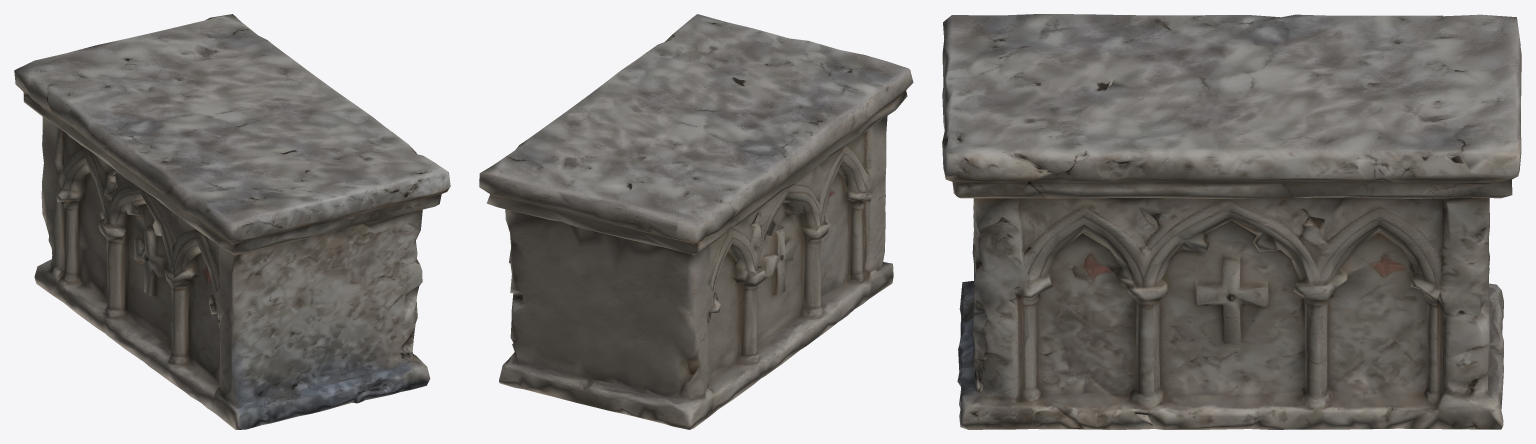
File: altar.glb
3 views of the same model, side by side, from view 1: azimuth 30°, elevation 25°; view 2: azimuth 150°, elevation 25°; view 3: azimuth 270°, elevation 25° (orthographic). The views are drawn at different scales.
Parts seen in each view (by area): view 1: tripo_node_d744830c-7b8d-4712-a52c-62efd5e6e606; view 2: tripo_node_d744830c-7b8d-4712-a52c-62efd5e6e606; view 3: tripo_node_d744830c-7b8d-4712-a52c-62efd5e6e606.
Part boxes in pixels (left/top/right/bottom): tripo_node_d744830c-7b8d-4712-a52c-62efd5e6e606: left=14, top=14, right=450, bottom=429; tripo_node_d744830c-7b8d-4712-a52c-62efd5e6e606: left=479, top=14, right=913, bottom=429; tripo_node_d744830c-7b8d-4712-a52c-62efd5e6e606: left=942, top=14, right=1521, bottom=429.
Size of the model in its own units: 0.5908 by 0.5456 by 1.
1 material, 1 textured.
